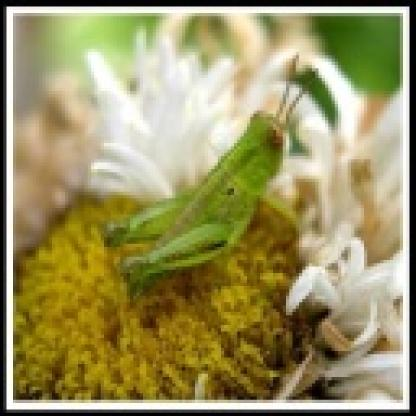grasshopper: (106, 52, 323, 286)
